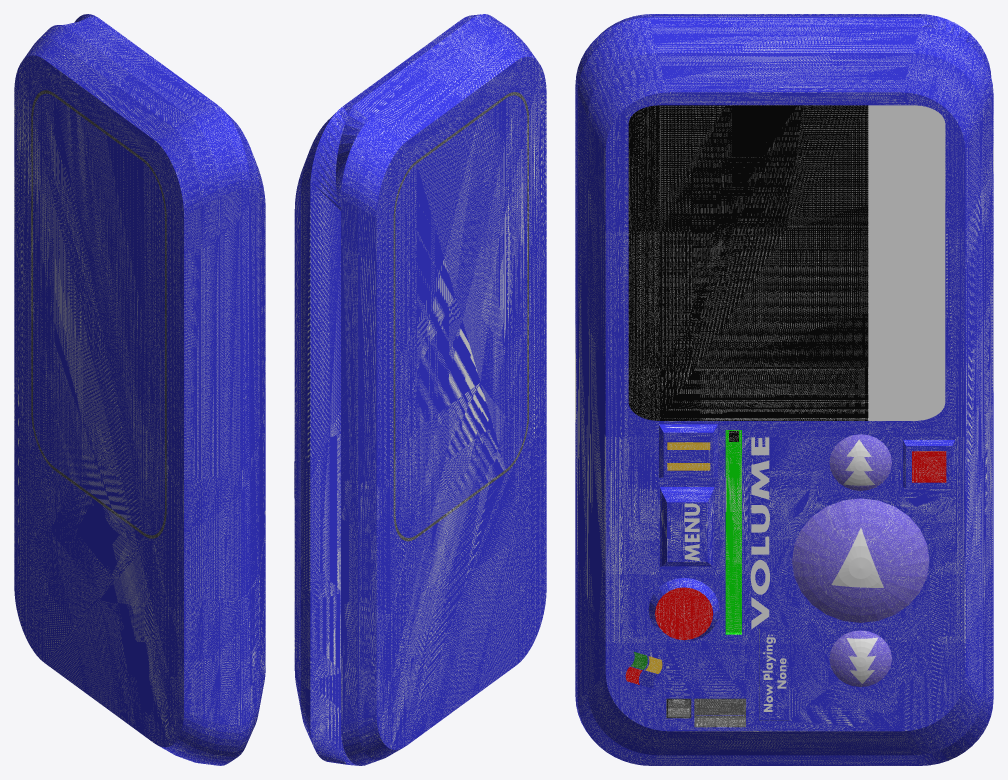
3 renders of one model, left to right at view 1: azimuth 30°, elevation 25°; view 2: azimuth 150°, elevation 25°; view 3: azimuth 270°, elevation 25°, orthographic. The views are drawn at different scales.
Parts seen in each view (by area): view 1: the windows portable dvd player; view 2: the windows portable dvd player; view 3: the windows portable dvd player.
Boxes of the visible parts, x1,y1,x2,y2 form: the windows portable dvd player: (14,14,265,765); the windows portable dvd player: (294,14,546,765); the windows portable dvd player: (575,14,993,765).
Size of the model in its own units: 36.5 by 226 by 115.
